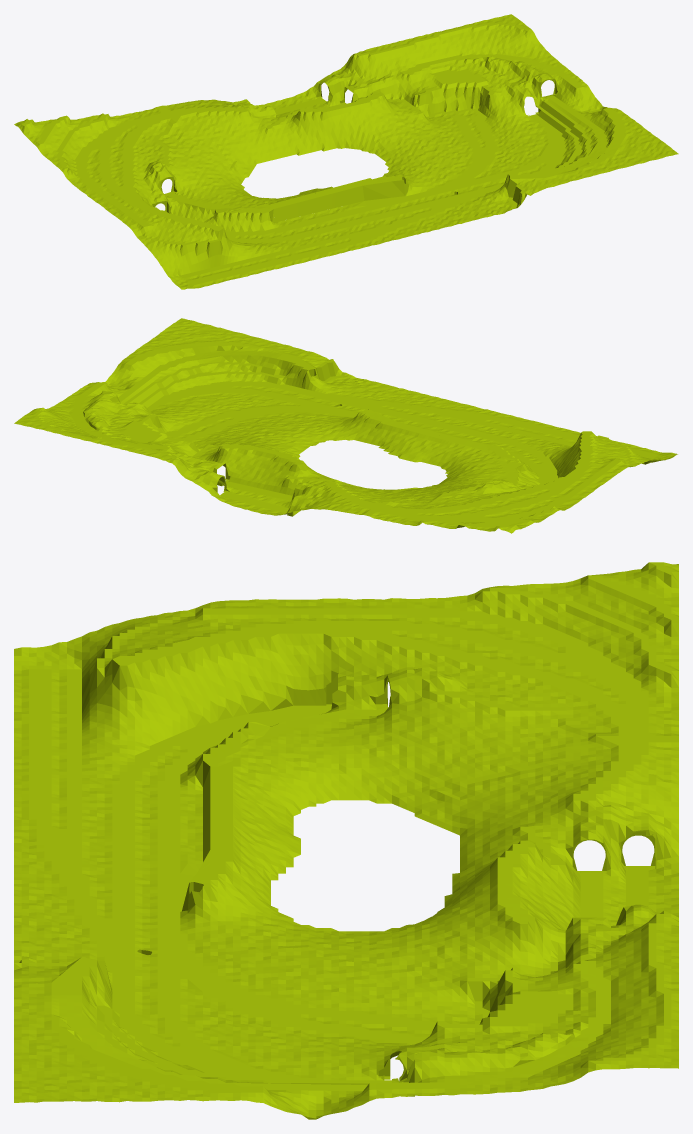
File: GMLID_TIN436865_187531_1154.dae
3 views of the same model, one above another, from view 1: azimuth 30°, elevation 25°; view 2: azimuth 150°, elevation 25°; view 3: azimuth 270°, elevation 25° (orthographic). The views are drawn at different scales.
Bounding box in the file's own units: 362 × 211 × 35.43.
